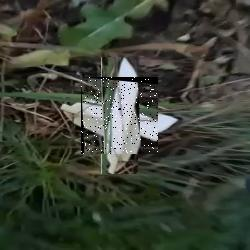restaffald: (81, 77, 158, 154)
